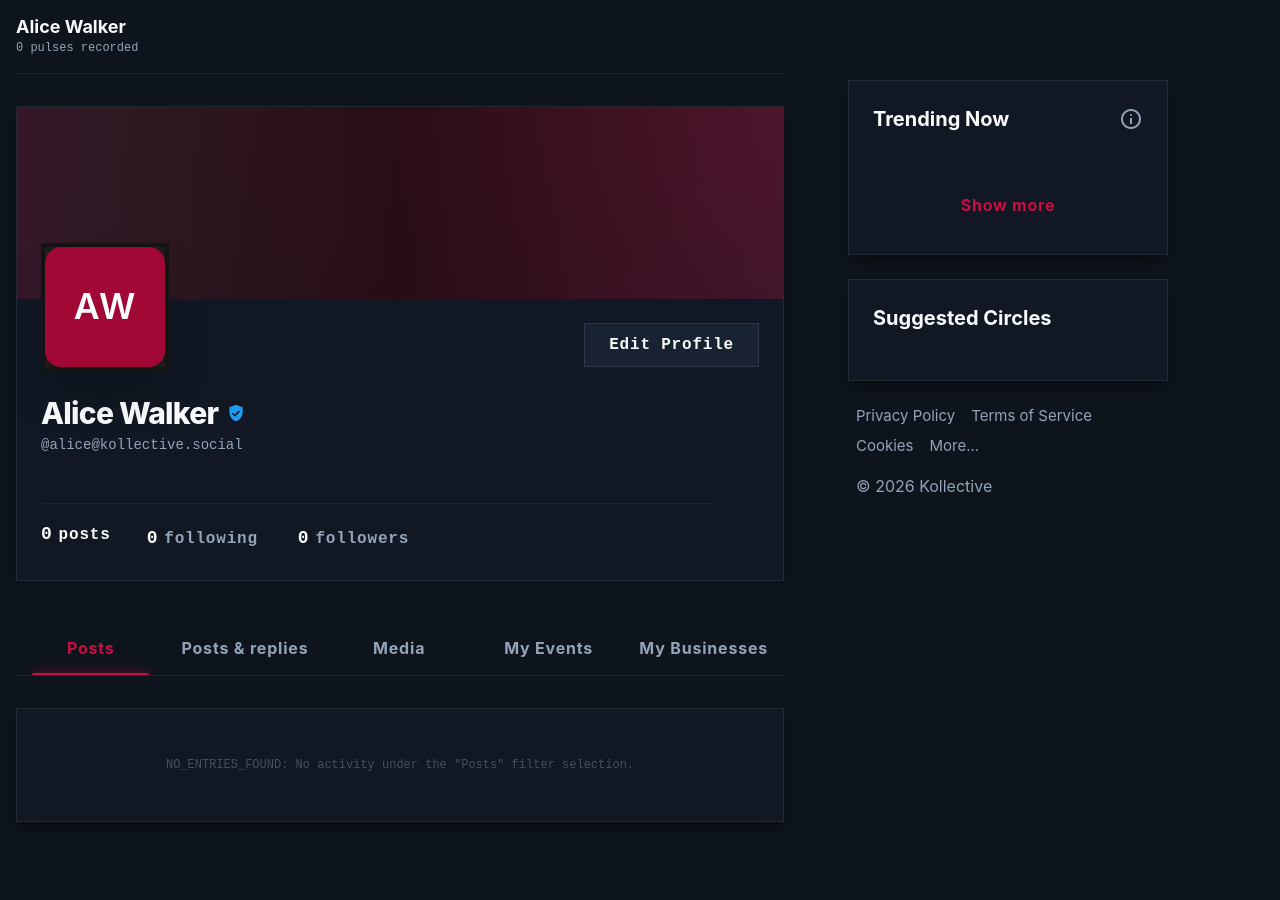
it: UserProfilePage Events and Businesses Visibility Suite › renders user registered businesses and Edit button when My Businesses tab is selected
Click the button with test id "tab-my-businesses".
click(704, 648)  # box x1=623 y1=620 x2=784 y2=675
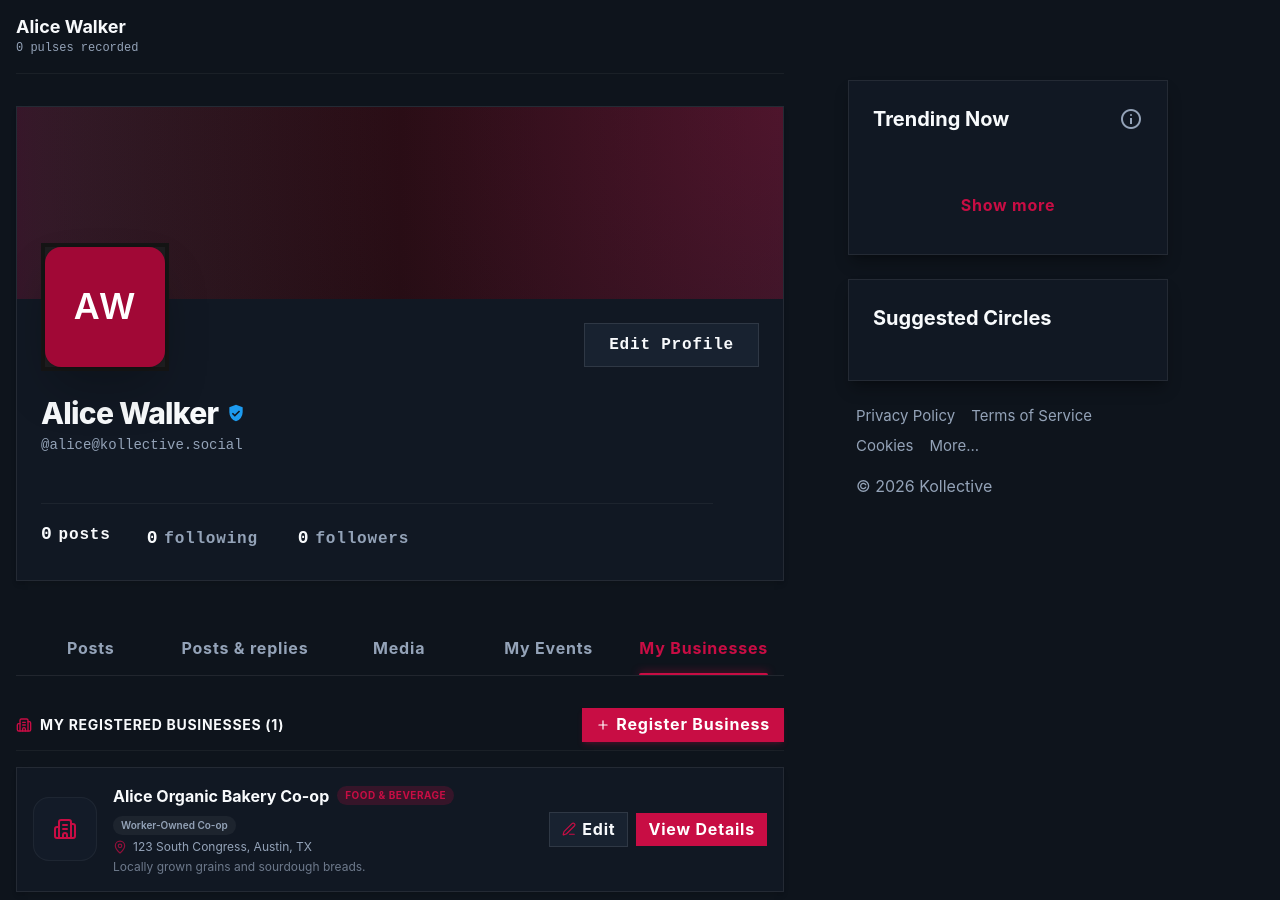
Result: the element with test id "my-businesses-section" is shown at x1=16 y1=708 x2=784 y2=892
Result: the heading "Alice Organic Bakery Co-op" is shown at x1=113 y1=784 x2=329 y2=808
Result: the button with test id "edit-my-business-btn-biz-1" is shown at x1=549 y1=812 x2=628 y2=847
